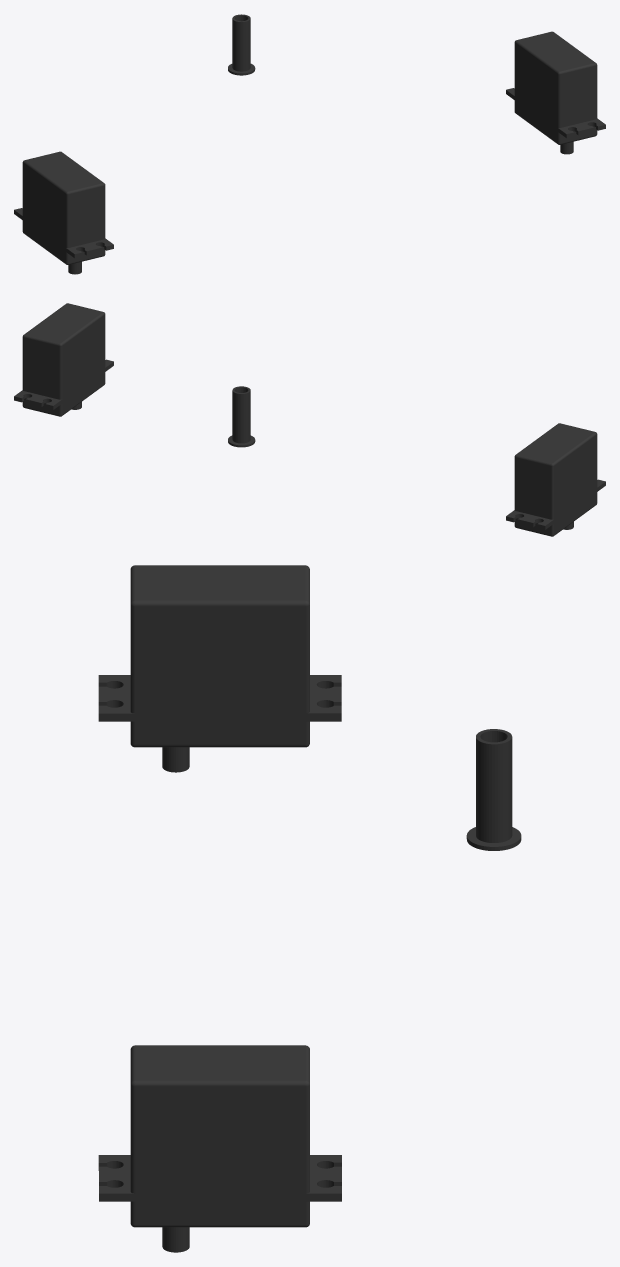
File: bogie_link_parts.dae
The picture shows the model from 3 angles, top to bottom: view 1: azimuth 30°, elevation 25°; view 2: azimuth 150°, elevation 25°; view 3: azimuth 270°, elevation 25°; orthographic projection. The views are drawn at different scales.
Visible parts, largest first — view 1: bogie_link_-_GWS_s35t_std-2; view 2: bogie_link_-_GWS_s35t_std-2; view 3: bogie_link_-_GWS_s35t_std-2.
Part boxes in pixels (x1,y1,x2,y2): bogie_link_-_GWS_s35t_std-2: (14,14,605,274); bogie_link_-_GWS_s35t_std-2: (14,303,605,536); bogie_link_-_GWS_s35t_std-2: (98,565,521,1252).
Size of the model in its own units: 0.27 by 0.093 by 0.0656.
1 material, 1 textured.
